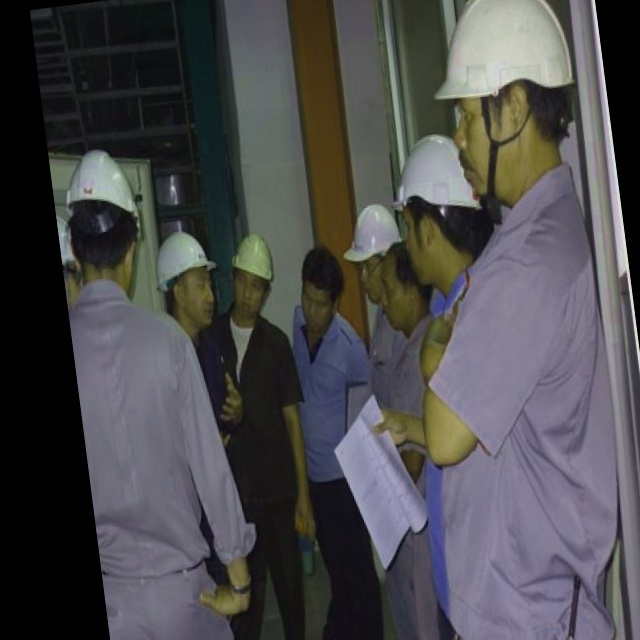Con_Casco: (423, 0, 585, 197), (223, 226, 277, 320)
Sin_Casco_Mascarrilla: (293, 245, 347, 332)
Sin_Chaleco: (68, 293, 212, 567)
